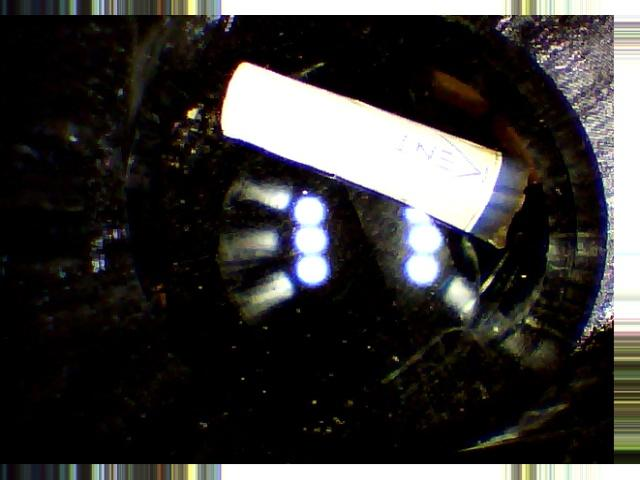megot: (212, 50, 540, 254)
